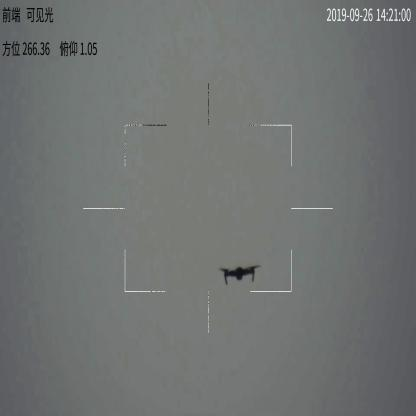uav: (214, 261, 263, 287)
